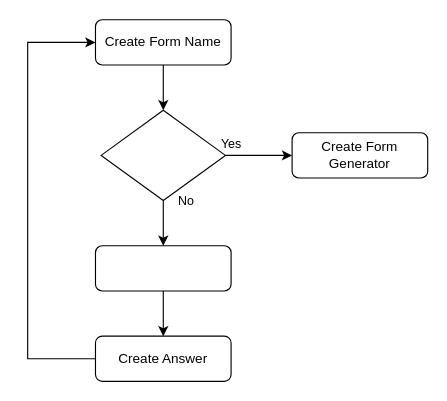
Some shapes in this 447 by 401 pixel diagram are drawn without their labels. Each missing label, with the centre of its shape:
"Create Question" belongs at (162,268).
"Question Exist ?" belongs at (162,155).
